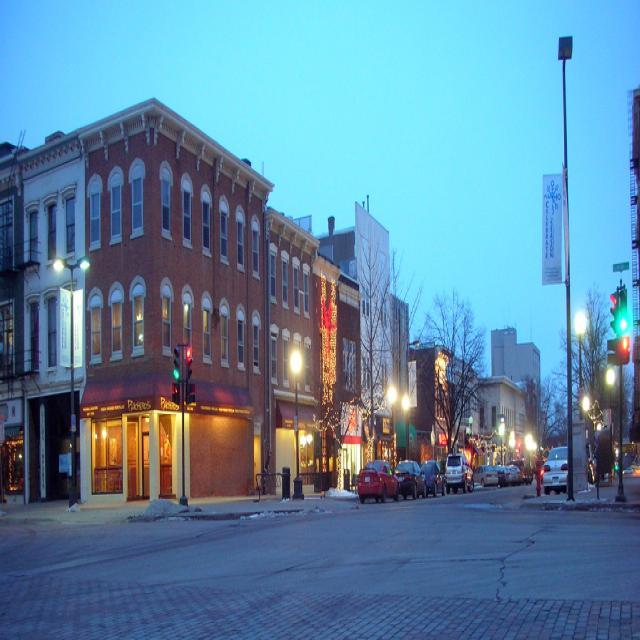off traffic light: (186, 381, 196, 405)
traffic light: (609, 285, 620, 332), (619, 285, 627, 332), (620, 337, 631, 366), (185, 342, 193, 379), (173, 343, 180, 383), (607, 337, 616, 368), (171, 381, 180, 407)
